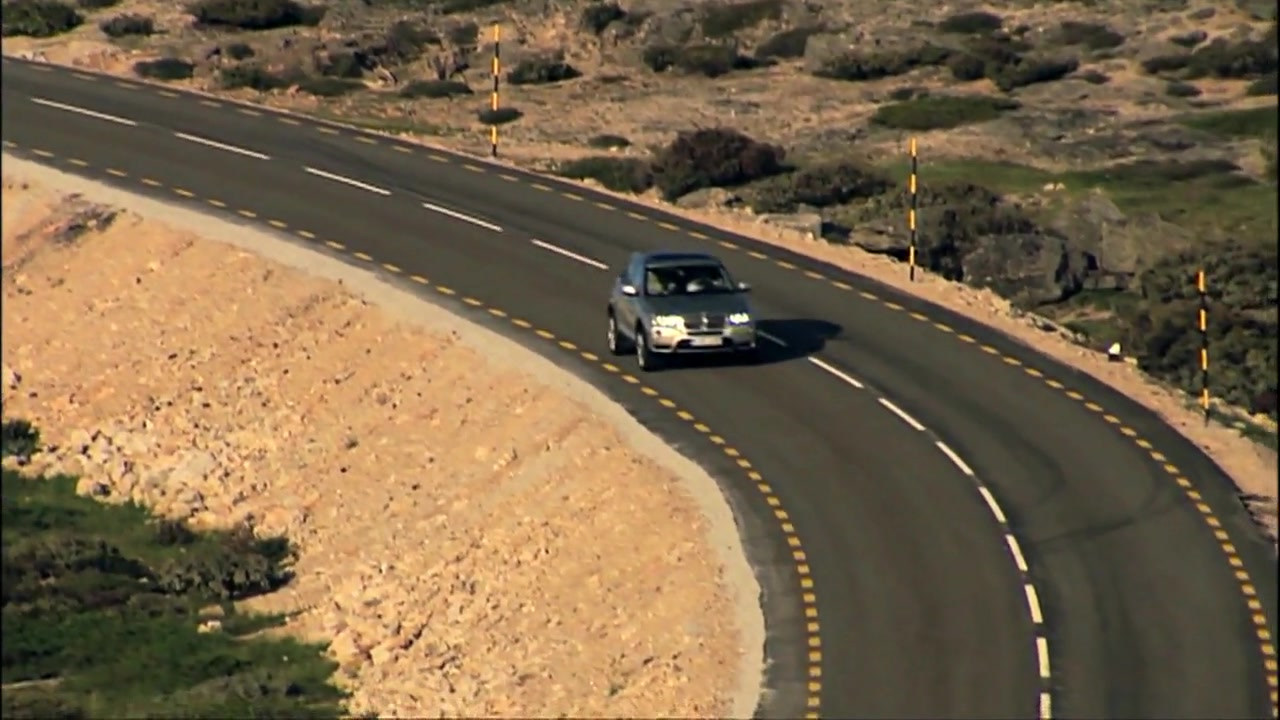car: (604, 248, 765, 374)
